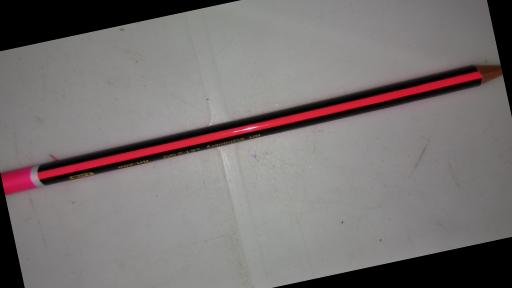Pencil: (0, 59, 506, 193)
